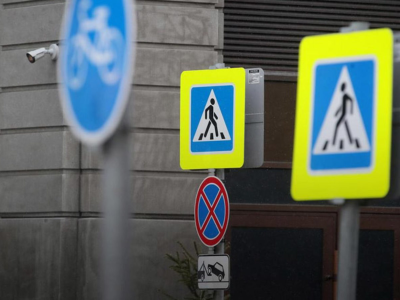crosswalk: (310, 63, 376, 172), (190, 86, 234, 151)
